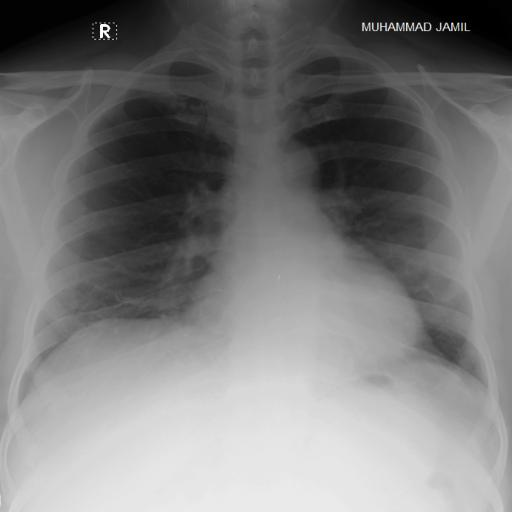kardiomegali: (6, 30, 508, 420)
